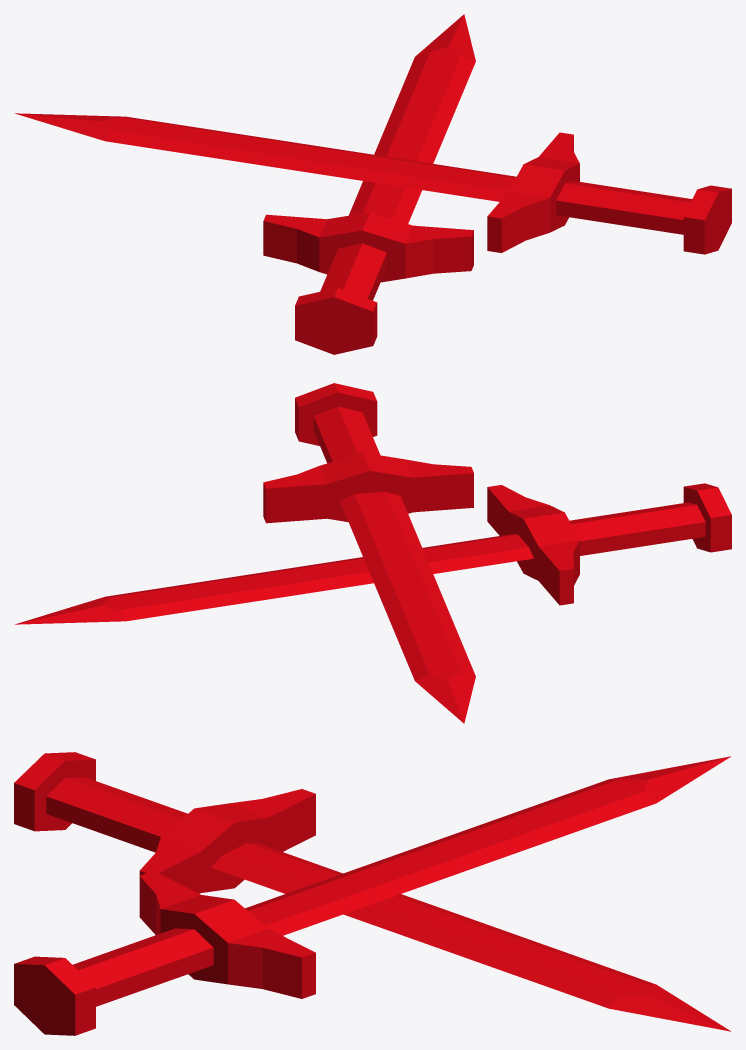
Rendered from combat_zone.fbx.
3 views of the same model, one above another, from view 1: azimuth 30°, elevation 25°; view 2: azimuth 150°, elevation 25°; view 3: azimuth 270°, elevation 25° (orthographic). The views are drawn at different scales.
Parts seen in each view (by area): view 1: Плоскость; view 2: Плоскость; view 3: Плоскость.
Part boxes in pixels (box(x1,y1,x2,y2)): Плоскость: box(15, 14, 731, 354); Плоскость: box(15, 383, 731, 723); Плоскость: box(14, 752, 730, 1035).
Size of the model in its own units: 142 by 20.61 by 164.
